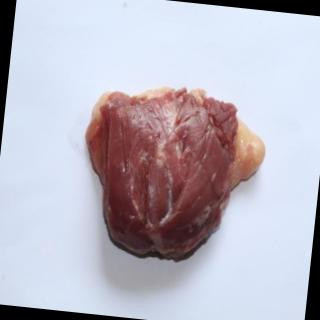Daging Sapi: (74, 85, 272, 275)
